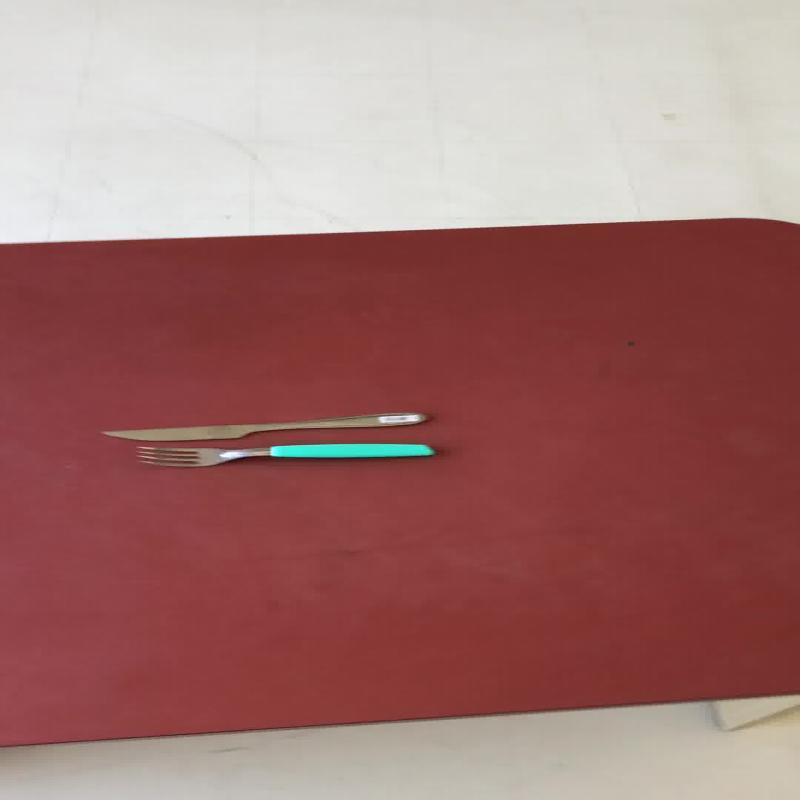fork: (134, 442, 436, 467)
knife: (99, 410, 430, 442)
